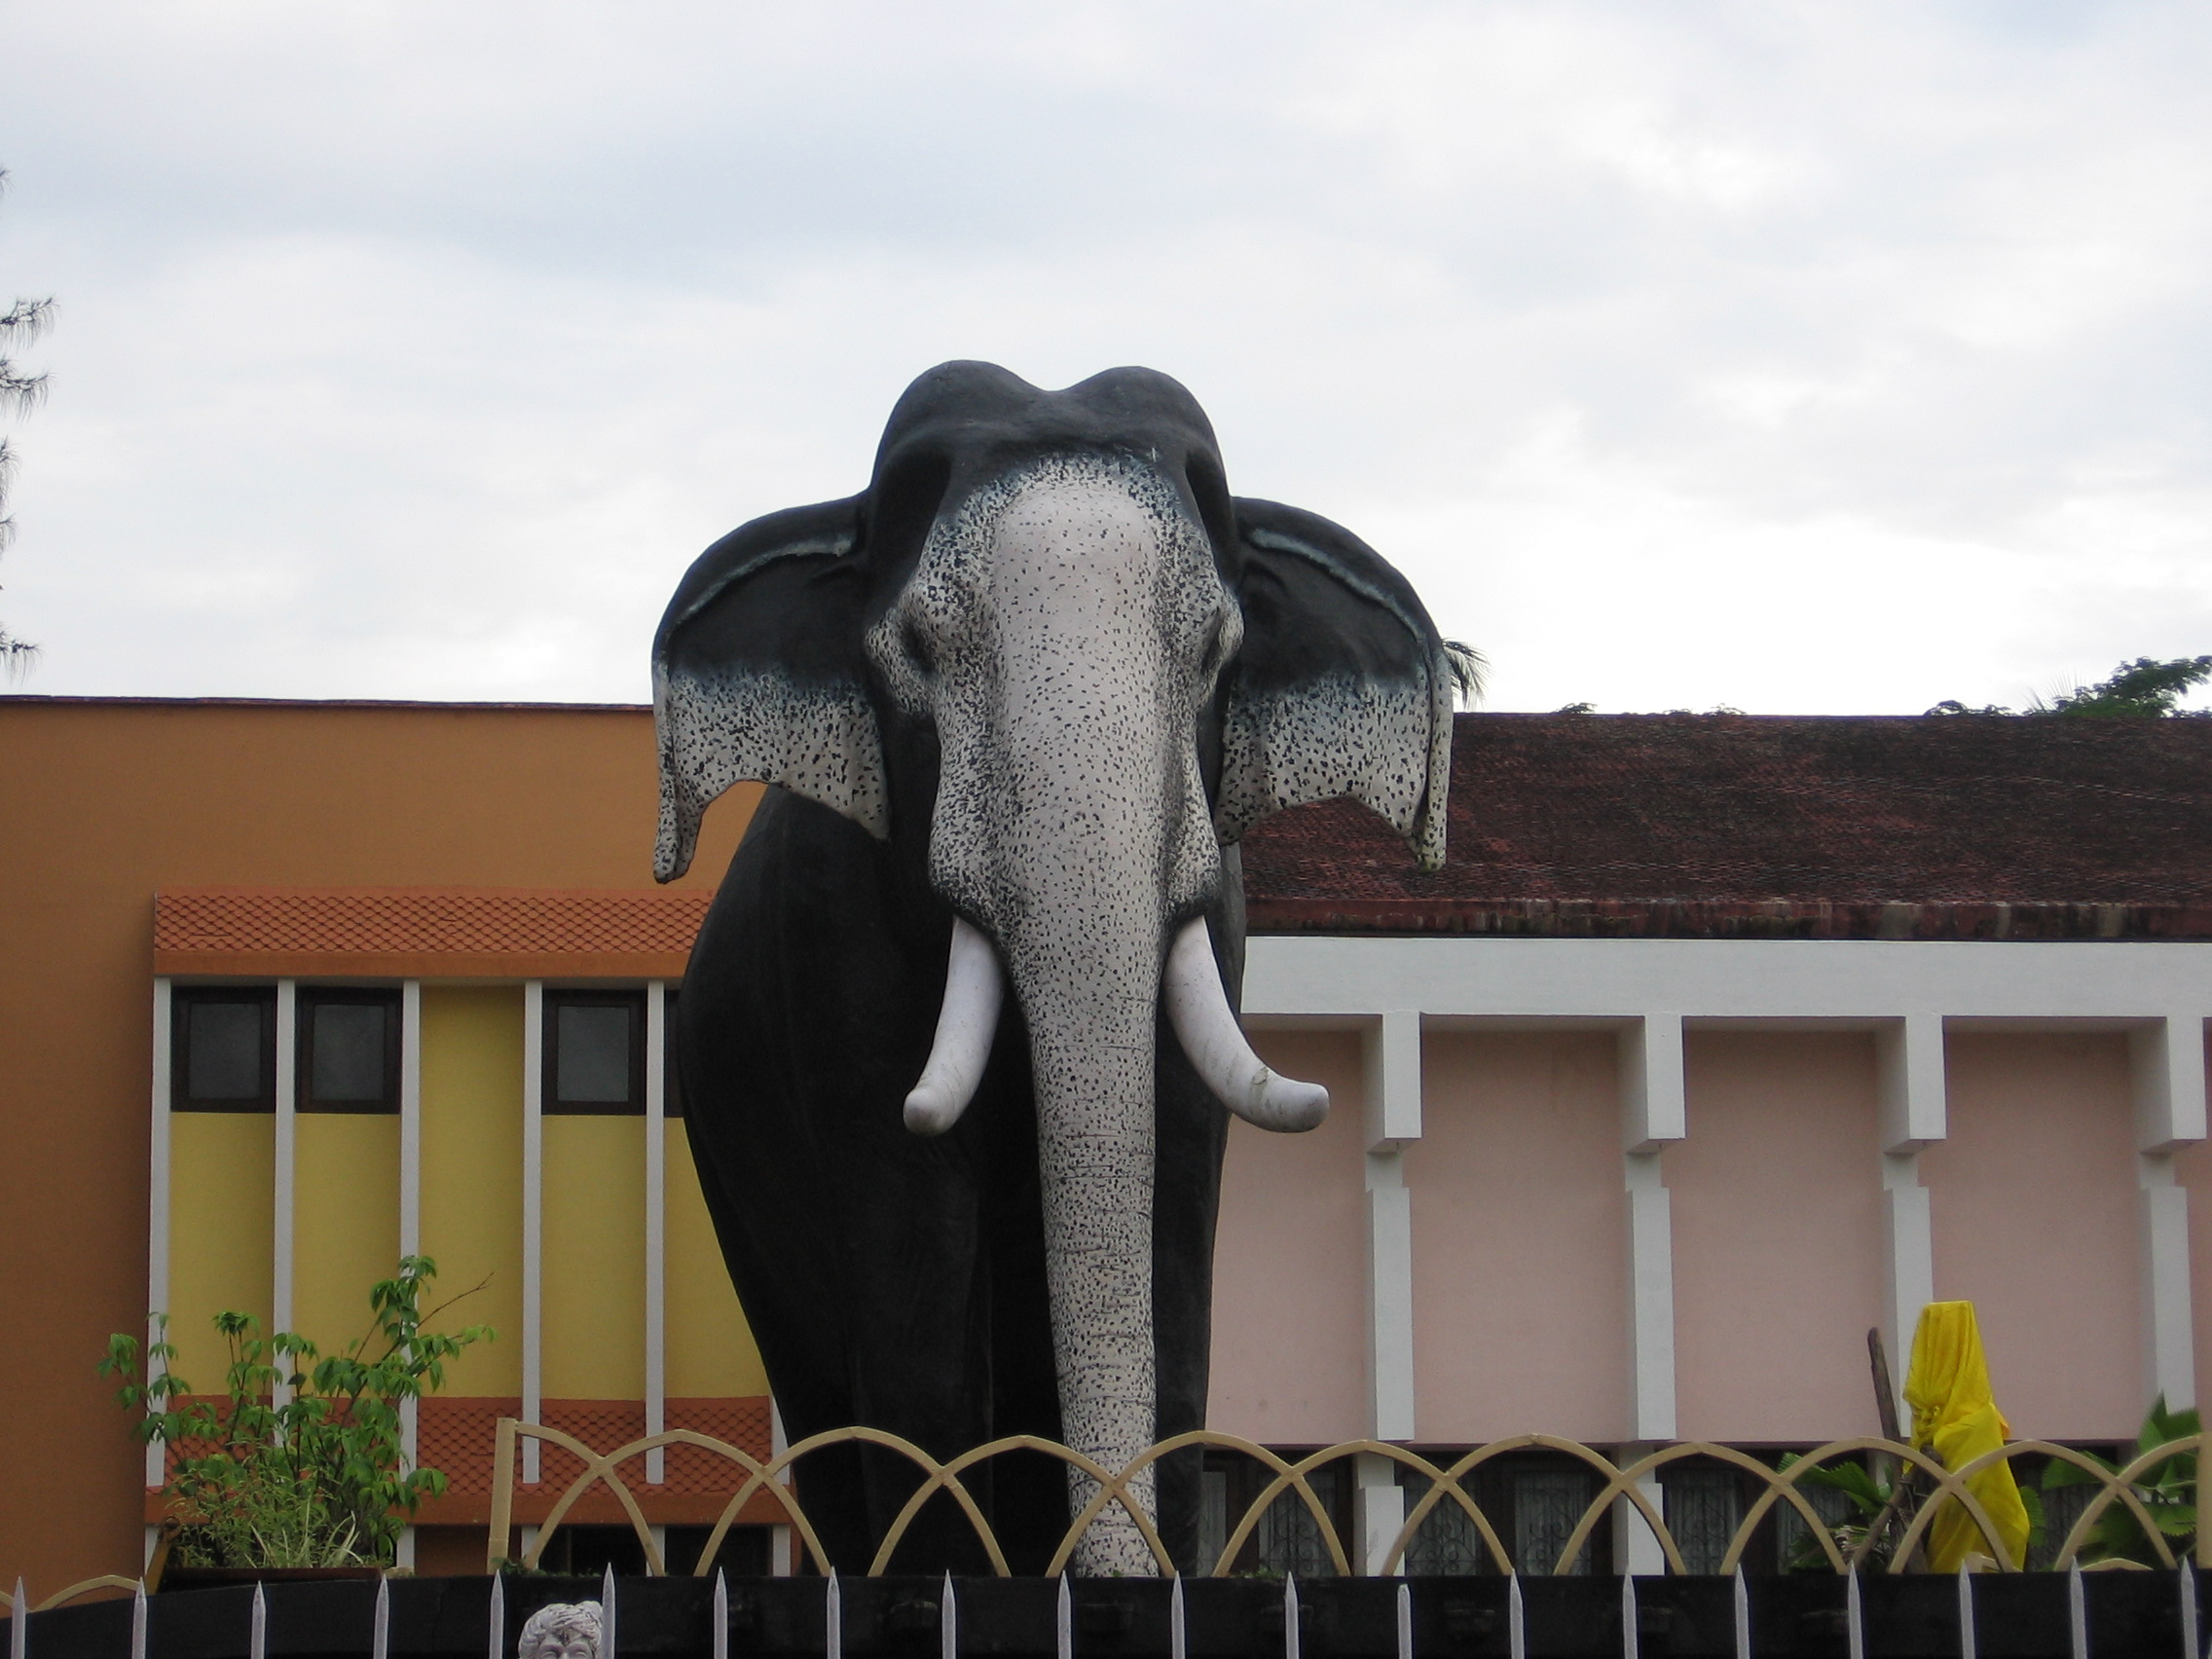Indian Elephant: (528, 314, 1503, 1586)
